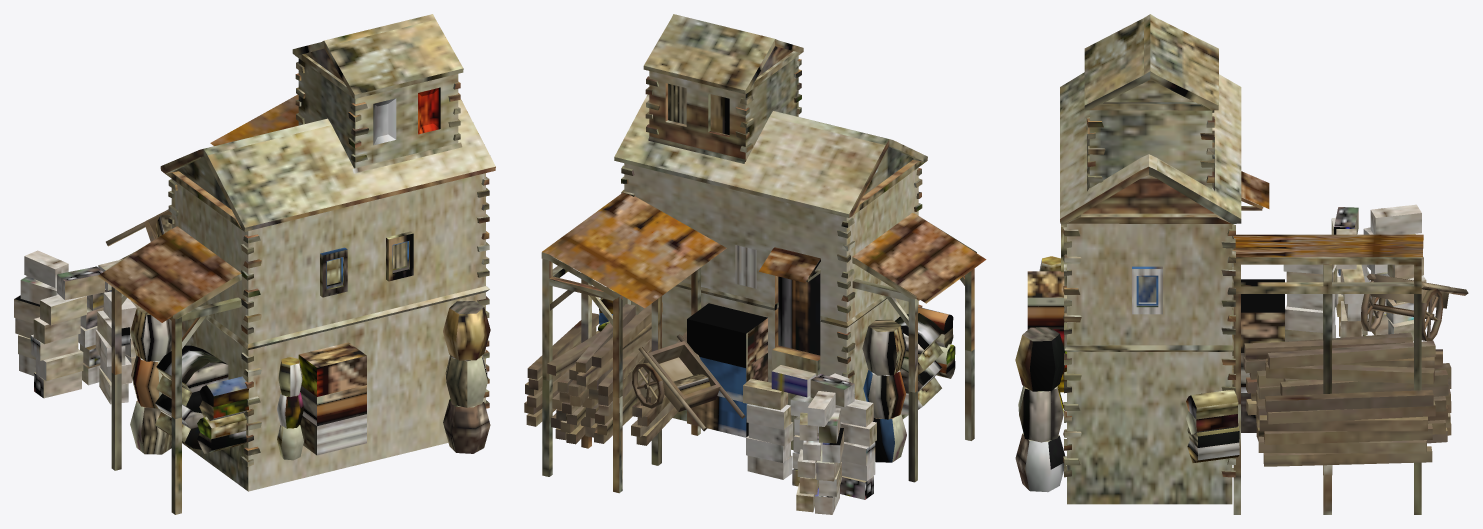
File: storehouse.glb
The picture shows the model from 3 angles, left to right: view 1: azimuth 30°, elevation 25°; view 2: azimuth 150°, elevation 25°; view 3: azimuth 270°, elevation 25°; orthographic projection. The views are drawn at different scales.
Parts seen in each view (by area): view 1: storehouse; view 2: storehouse; view 3: storehouse.
Boxes of the visible parts, <box> form: storehouse: <box>14,14,495,514</box>; storehouse: <box>524,14,986,514</box>; storehouse: <box>1015,14,1468,514</box>.
Size of the model in its own units: 3.31 by 3.63 by 3.4.
Materials: 5 (5 with a texture image).
